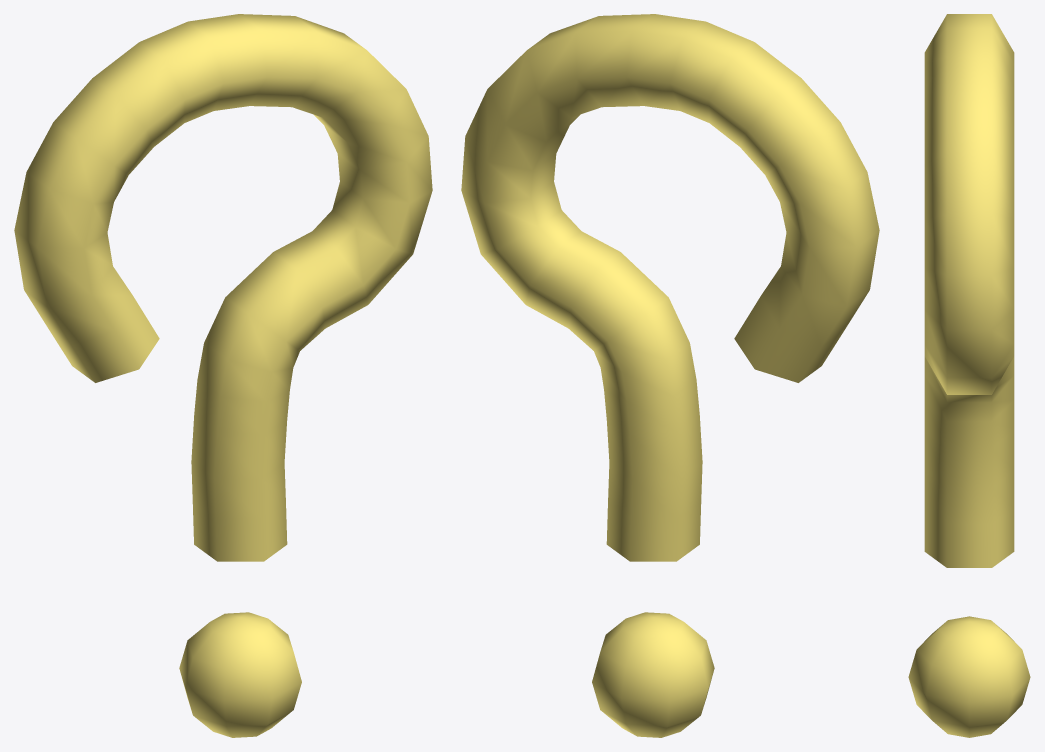
The model's file is prop-question.glb.
The picture shows the model from 3 angles, left to right: view 1: azimuth 30°, elevation 25°; view 2: azimuth 150°, elevation 25°; view 3: azimuth 270°, elevation 25°; orthographic projection. The views are drawn at different scales.
Visible parts, largest first — view 1: qmark, qdot; view 2: qmark, qdot; view 3: qmark, qdot.
Boxes of the visible parts, left/top/right/bottom form: qmark: left=14, top=14, right=432, bottom=561; qdot: left=179, top=612, right=301, bottom=737; qmark: left=461, top=14, right=879, bottom=561; qdot: left=592, top=612, right=714, bottom=737; qmark: left=924, top=14, right=1014, bottom=567; qdot: left=908, top=616, right=1030, bottom=737.
Bounding box in the file's own units: 0.1077 × 0.1857 × 0.03.
